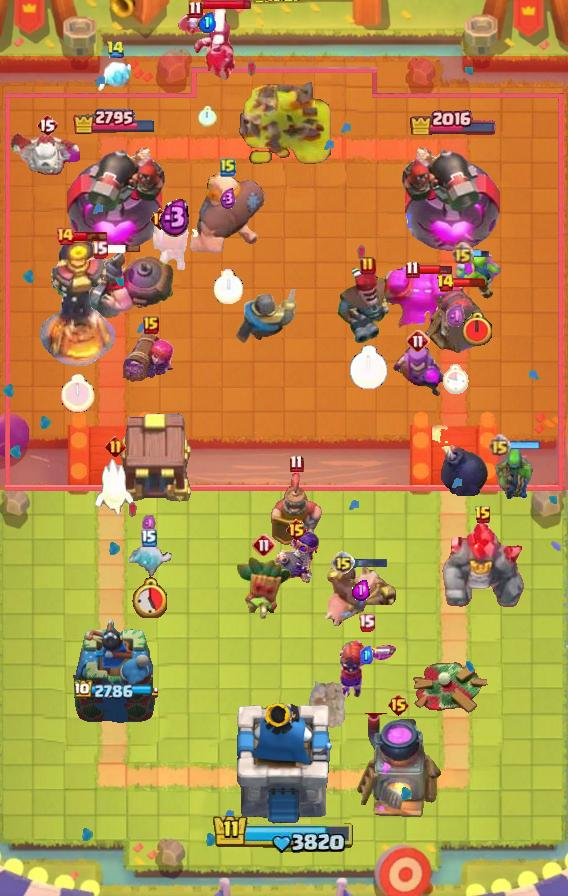baby-dragon: (429, 425, 489, 497)
balloon: (188, 171, 268, 259)
bat: (95, 458, 135, 516), (125, 540, 173, 580), (94, 56, 136, 94)
bomb: (114, 410, 194, 504)
cannoneer-tower: (440, 522, 526, 610)
clock: (212, 813, 356, 855)
clone: (381, 266, 467, 352)
earthquake: (268, 473, 324, 549)
electro-dragon: (39, 241, 117, 369)
electro-spirit: (159, 197, 191, 237), (446, 303, 467, 329), (352, 579, 370, 601), (198, 12, 216, 33), (220, 188, 236, 210), (143, 514, 158, 533), (359, 646, 372, 664)
elixir: (348, 345, 387, 390), (133, 578, 168, 619), (61, 374, 95, 413), (460, 312, 494, 349), (213, 268, 243, 303), (443, 364, 469, 394), (198, 105, 217, 126)
emote: (200, 0, 251, 11), (417, 263, 453, 276), (73, 230, 109, 242), (352, 558, 387, 569), (452, 276, 486, 287), (508, 441, 542, 452), (105, 244, 141, 254), (470, 248, 489, 259)
firecracker: (235, 289, 299, 344)
fisherman: (307, 678, 345, 728)
freeze: (322, 564, 400, 632)
giant-snowball: (494, 445, 534, 503)
goblin-ball: (271, 530, 321, 584)
goblin-barrel: (235, 555, 293, 621)
hunter: (353, 713, 443, 821)
king-tower: (235, 703, 333, 826)
knight: (150, 216, 200, 272)
mega-minion: (123, 331, 179, 393)
mini-pekka: (8, 128, 86, 178)
phoenix-small: (335, 266, 401, 346)
queen-tower: (70, 616, 158, 731)
rascal-boy: (176, 9, 238, 81)
rascal-girl: (390, 343, 446, 401)
royal-giant-evolution: (422, 286, 490, 356)
selected: (410, 107, 499, 135), (71, 107, 156, 134), (73, 679, 154, 700)
tesla-evolution: (335, 636, 397, 698)
text: (406, 329, 430, 353), (252, 533, 276, 557), (331, 551, 355, 575), (148, 207, 171, 231), (450, 242, 473, 266), (489, 434, 512, 458), (285, 518, 308, 542), (386, 693, 409, 717), (36, 113, 58, 137), (105, 435, 126, 457), (55, 226, 75, 246), (436, 273, 455, 293), (106, 41, 125, 60), (474, 505, 492, 525), (357, 612, 375, 631), (220, 157, 236, 177), (360, 256, 376, 276), (91, 241, 108, 259), (143, 316, 159, 334), (141, 529, 157, 547), (188, 1, 203, 20), (289, 455, 304, 473), (405, 260, 419, 279)
tower-bar: (63, 136, 165, 256), (402, 136, 504, 256)
wizard: (50, 247, 176, 321)
zap: (451, 249, 503, 299)
